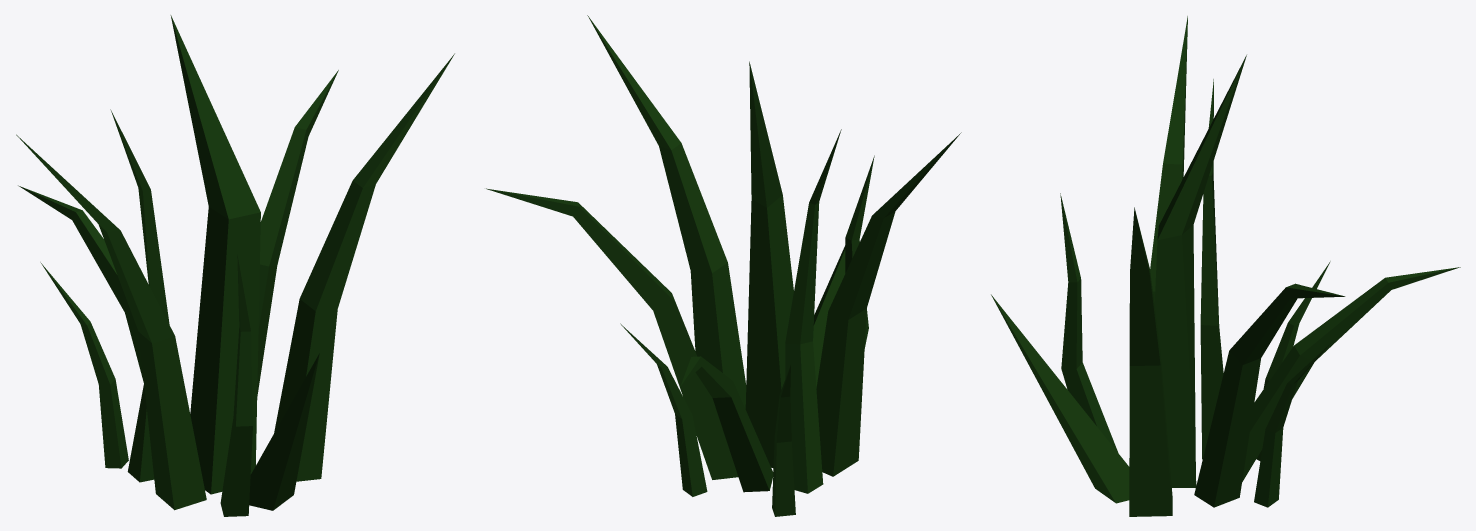
The model's file is KHIP_Grass.FBX.
3 views of the same model, side by side, from view 1: azimuth 30°, elevation 25°; view 2: azimuth 150°, elevation 25°; view 3: azimuth 270°, elevation 25° (orthographic). The views are drawn at different scales.
Parts seen in each view (by area): view 1: KHIP_Grasss; view 2: KHIP_Grasss; view 3: KHIP_Grasss.
Boxes of the visible parts, x1=… form: KHIP_Grasss: x1=16, y1=15, x2=454, y2=516; KHIP_Grasss: x1=486, y1=15, x2=961, y2=516; KHIP_Grasss: x1=991, y1=16, x2=1460, y2=516.
Size of the model in its own units: 29.95 by 31.08 by 30.93.
